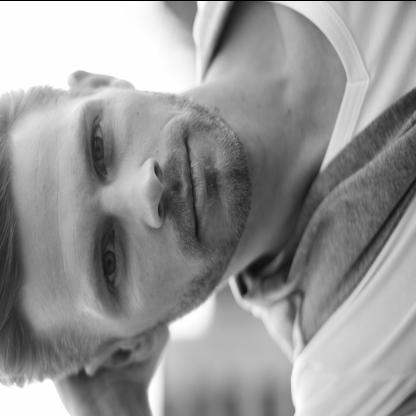Eye: (90, 112, 112, 179), (102, 228, 122, 292)
Mouth: (182, 138, 207, 240)
Nose: (110, 157, 164, 228)
